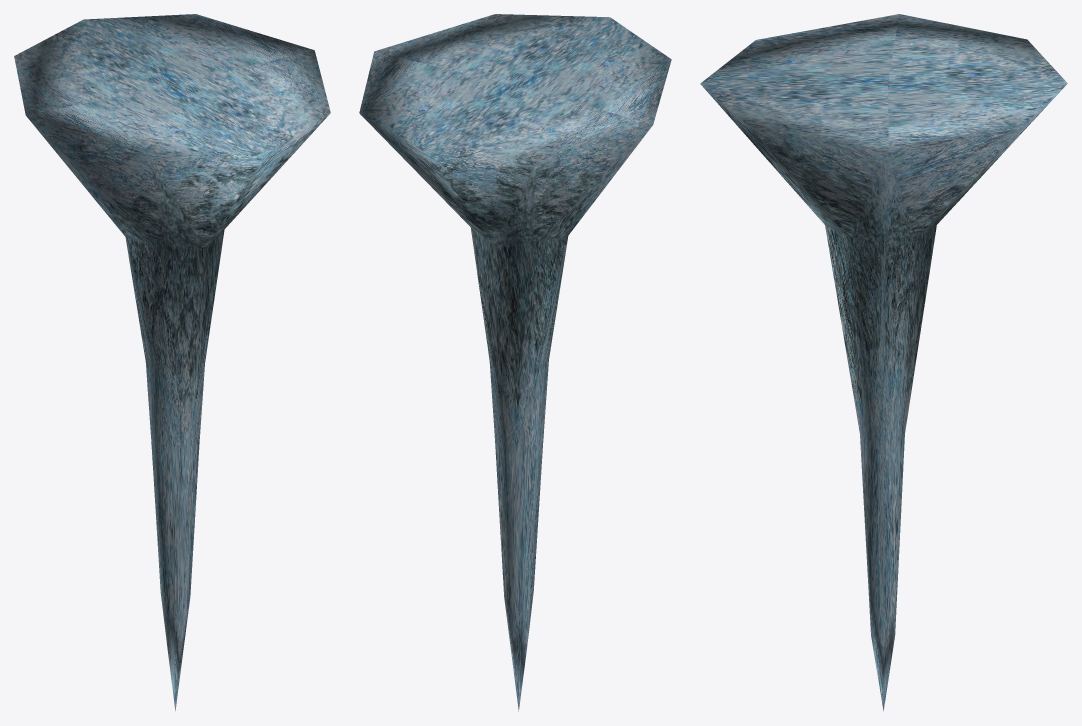
The model's file is thm_all_cave_stalagtite_ice_b3_l1.fbx.
3 renders of one model, left to right at view 1: azimuth 30°, elevation 25°; view 2: azimuth 150°, elevation 25°; view 3: azimuth 270°, elevation 25°, orthographic.
Parts seen in each view (by area): view 1: mesh_node; view 2: mesh_node; view 3: mesh_node.
Part boxes in pixels (x1,y1,x2,y2): mesh_node: [14, 14, 330, 711]; mesh_node: [359, 14, 671, 711]; mesh_node: [700, 14, 1067, 710].
Bounding box in the file's own units: 2.43 × 5.12 × 2.71.
